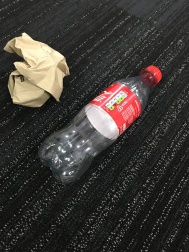bottle_red: (34, 58, 168, 193)
paper_brown: (2, 28, 73, 115)
